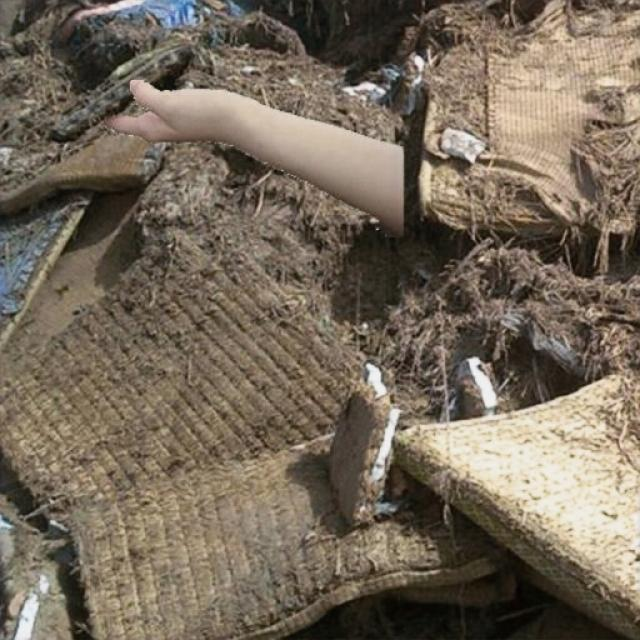Person in Rubble: (104, 80, 402, 238)
